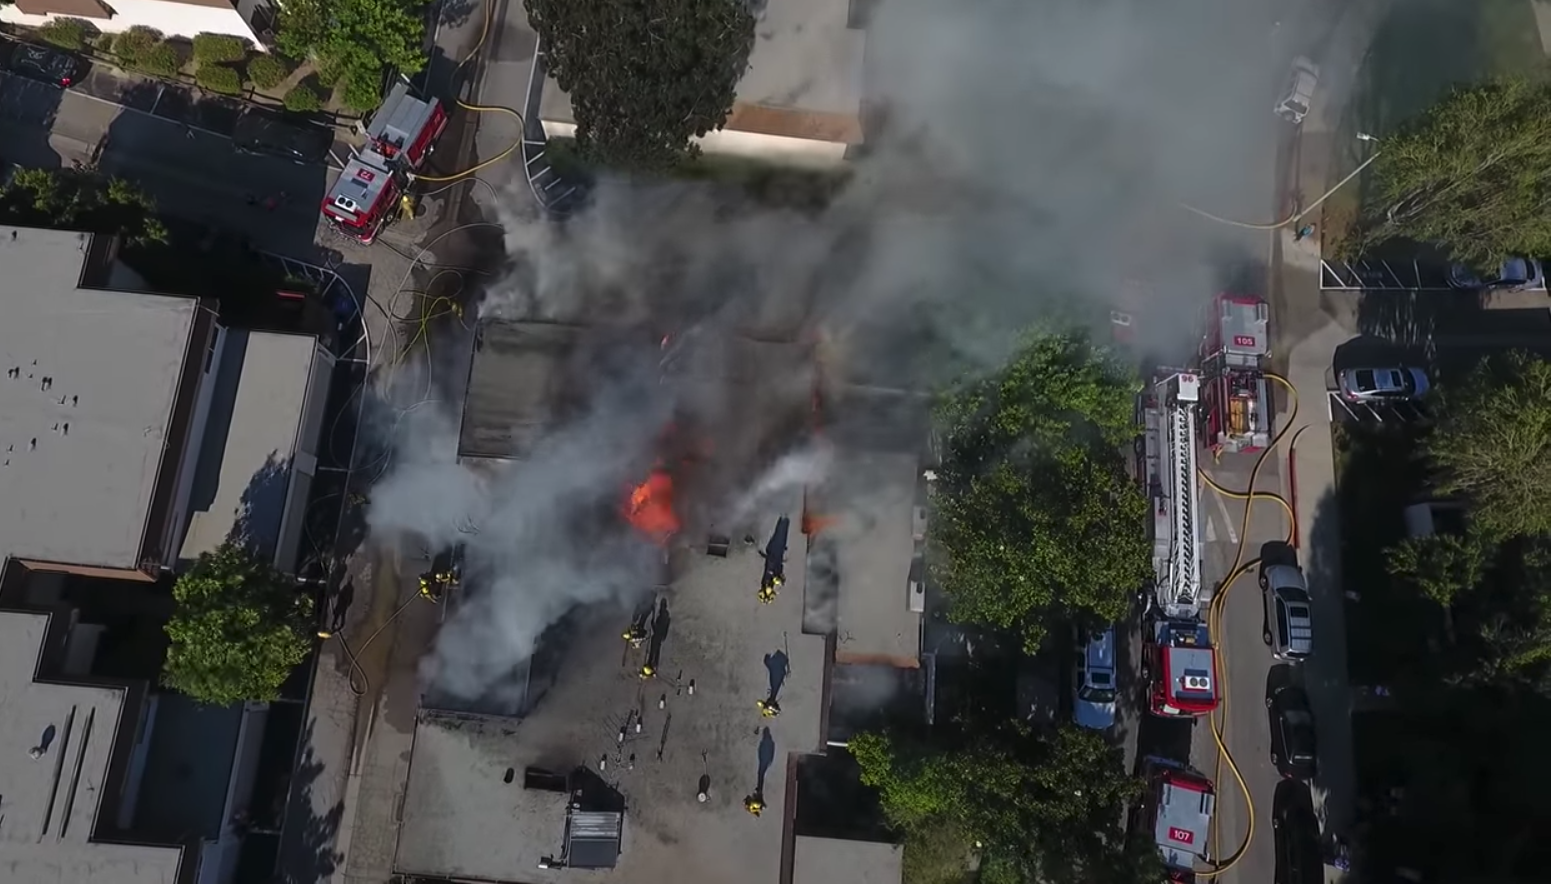fire: (601, 457, 708, 571)
